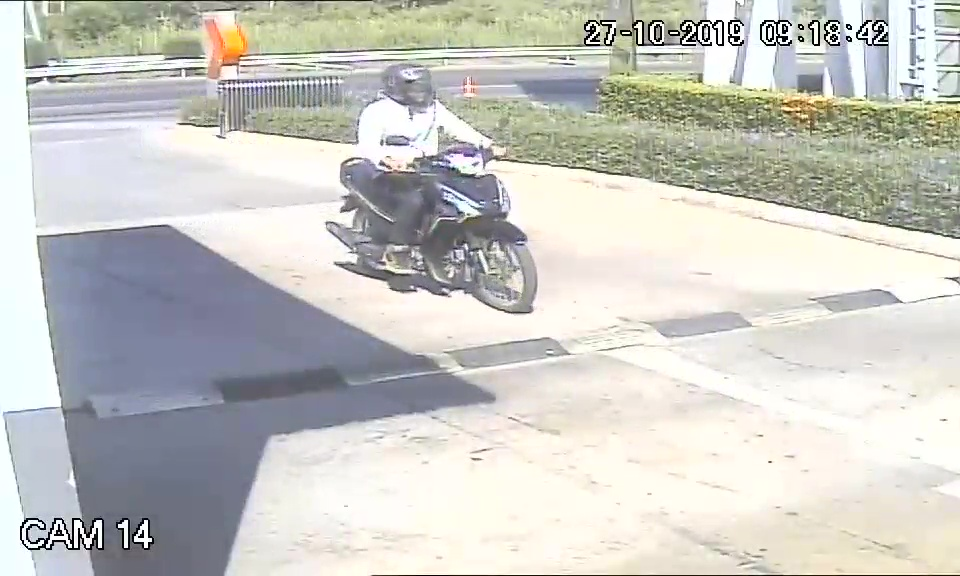motorcycle: (324, 145, 540, 314)
